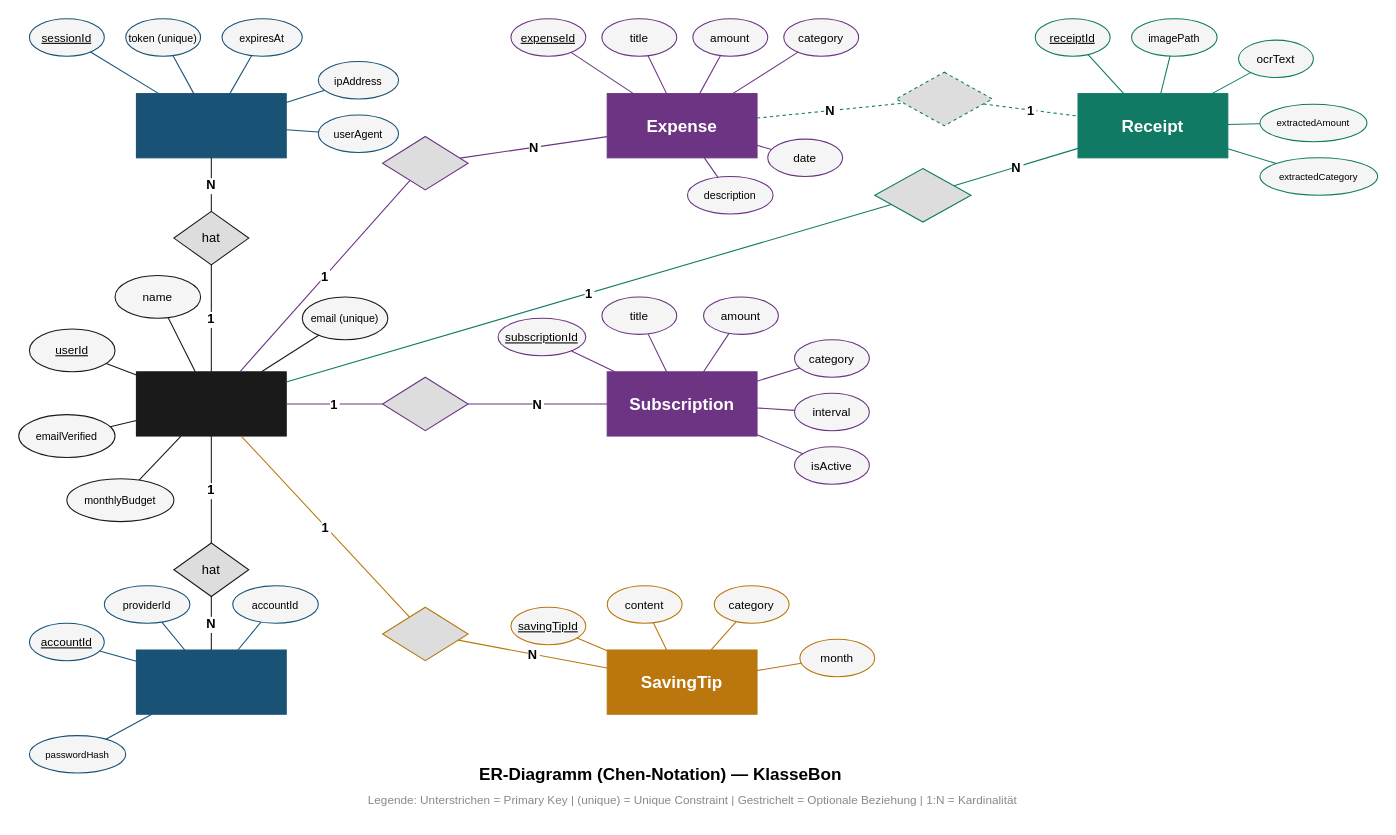
Image size: 1396x835. Some labels were removed from this diagram. The centre of each missing label's shape, as x and y in pixels:
abonniert: point (424, 403)
Account: point (210, 681)
erhält: point (424, 633)
erstellt: point (424, 162)
gehört zu: point (943, 98)
lädt hoch: point (922, 194)
Session: point (210, 125)
User: point (210, 403)
